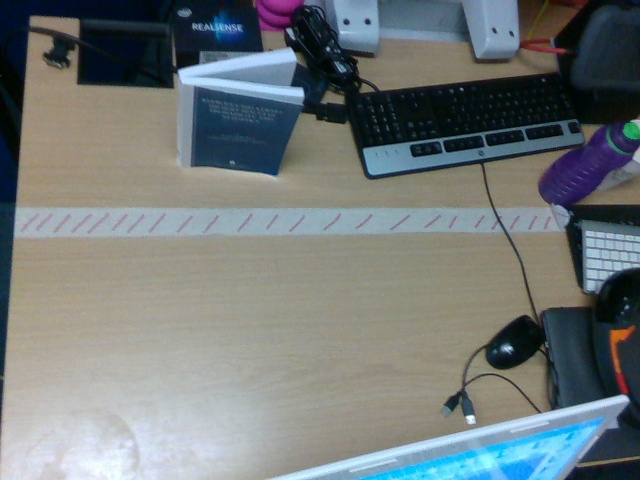book: (178, 48, 305, 176)
